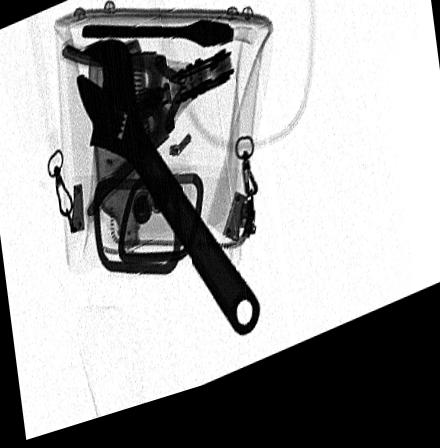Hammer: (78, 29, 234, 64)
Pliers: (58, 47, 238, 225)
Wrench: (74, 44, 260, 354)
